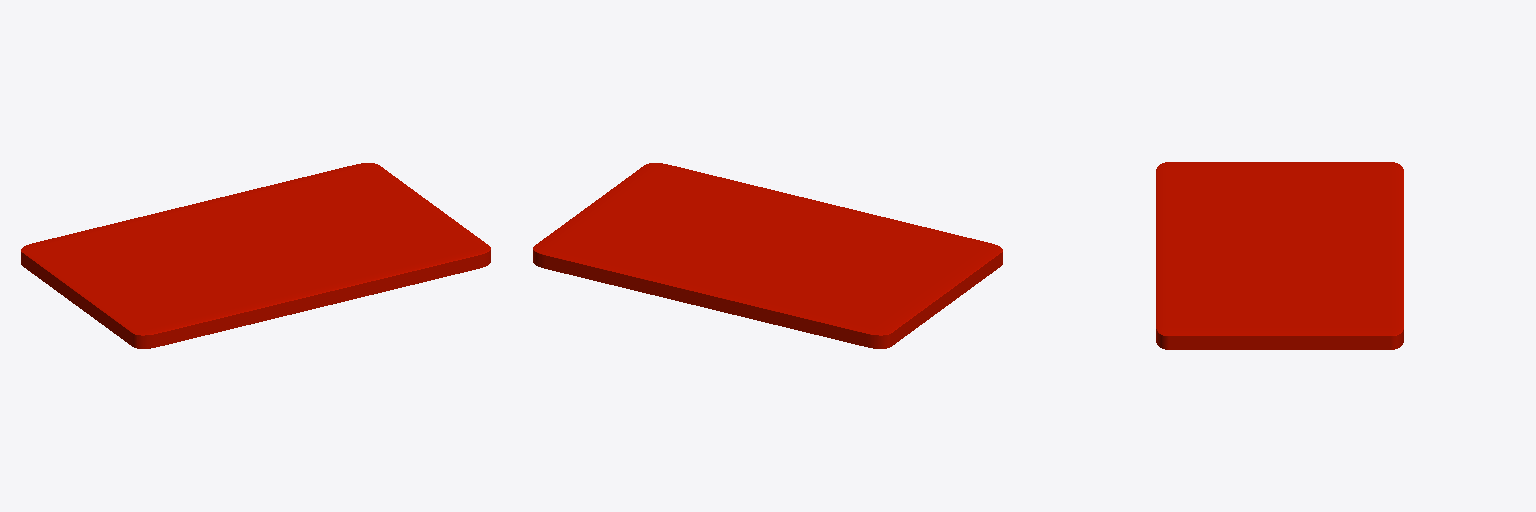
Rendered from card.obj.
3 renders of one model, left to right at view 1: azimuth 30°, elevation 25°; view 2: azimuth 150°, elevation 25°; view 3: azimuth 270°, elevation 25°, orthographic.
Parts seen in each view (by area): view 1: Cube_Cube.001; view 2: Cube_Cube.001; view 3: Cube_Cube.001.
Part boxes in pixels (x1,y1,x2,y2): Cube_Cube.001: (21,163,490,348); Cube_Cube.001: (533,163,1002,348); Cube_Cube.001: (1156,162,1403,349).
Size of the model in its own units: 5 by 0.2 by 3.